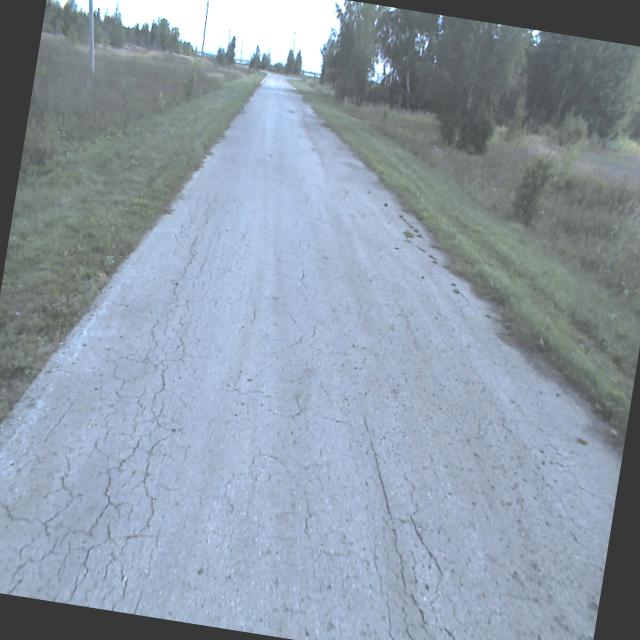road: (0, 69, 623, 640)
